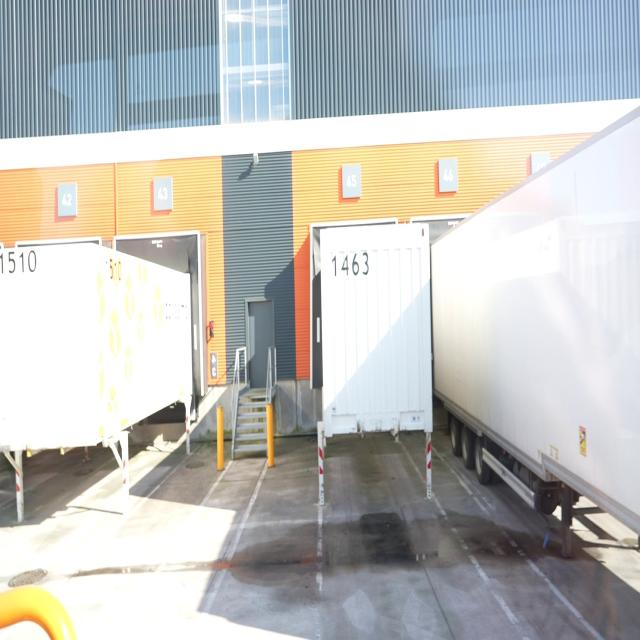Code: (329, 249, 372, 278)
